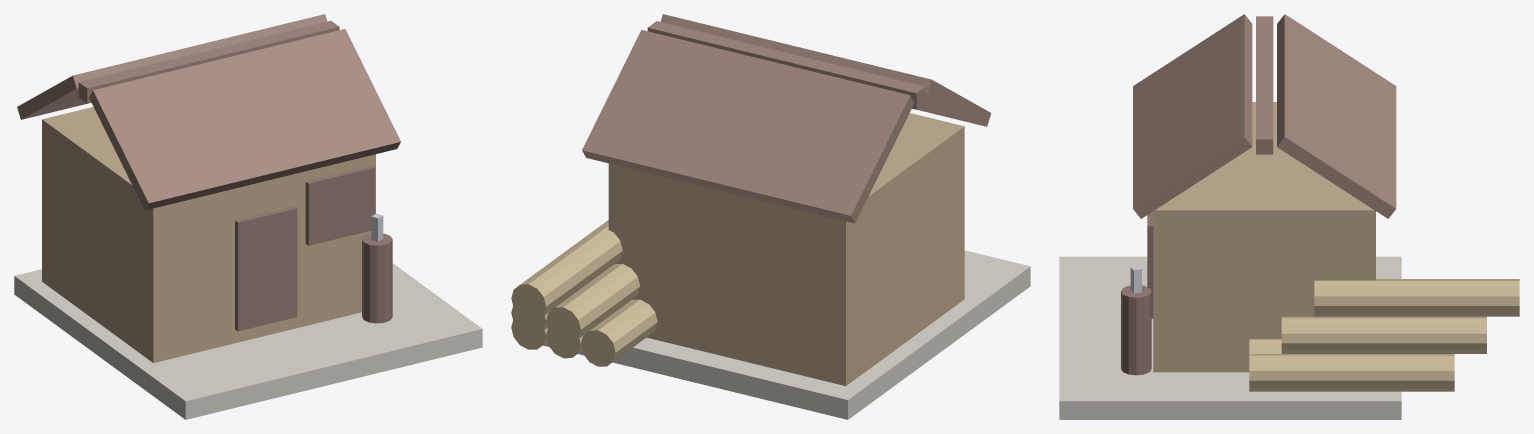
Rendered from LUMBERJACK.glb.
3 views of the same model, side by side, from view 1: azimuth 30°, elevation 25°; view 2: azimuth 150°, elevation 25°; view 3: azimuth 270°, elevation 25° (orthographic). The views are drawn at different scales.
Visible parts, largest first — view 1: LUMBERJACK; view 2: LUMBERJACK; view 3: LUMBERJACK.
Boxes of the visible parts, <box> form: LUMBERJACK: <box>14,14,482,419</box>; LUMBERJACK: <box>511,14,1030,419</box>; LUMBERJACK: <box>1059,14,1519,419</box>.
Bounding box in the file's own units: 2 × 1.68 × 2.69.
